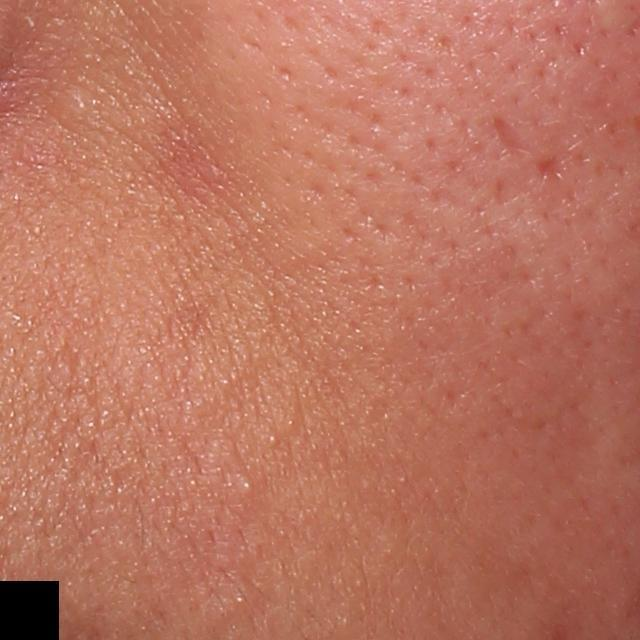atrophic_scar: (492, 111, 530, 153), (531, 152, 571, 183)
comedo: (240, 474, 259, 499)
